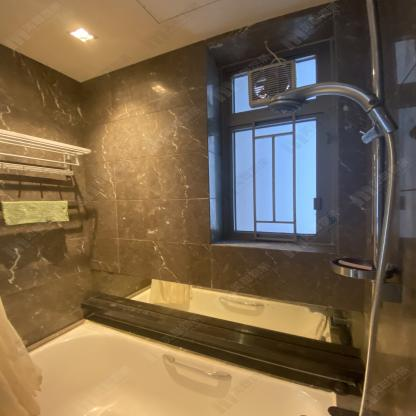Bathtub: (6, 318, 364, 416)
Exhaust Fan: (249, 62, 298, 105)
